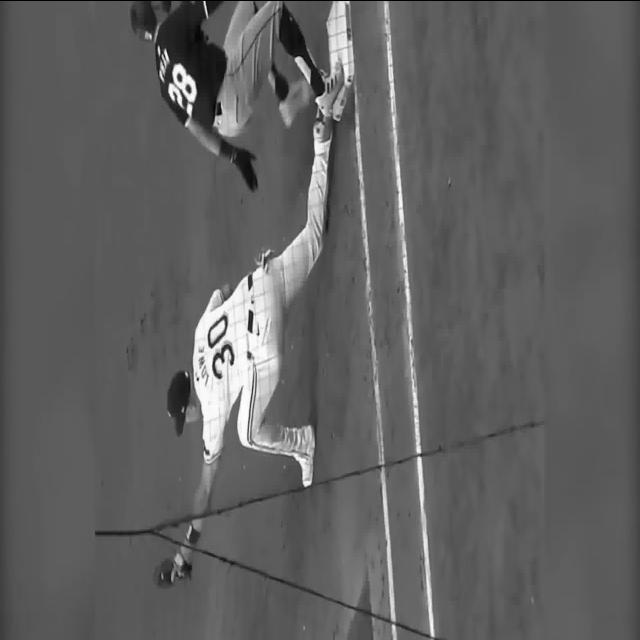base: (322, 0, 351, 94)
baseball_glove: (149, 553, 195, 587)
shoe: (315, 60, 346, 122), (278, 78, 312, 128), (300, 424, 316, 488)
